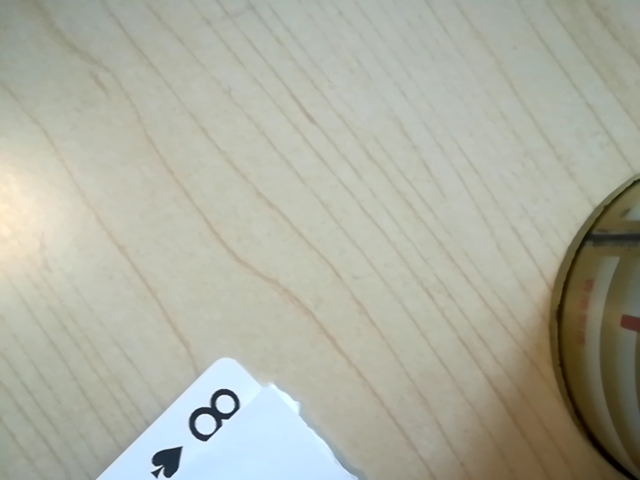ht 8: (143, 379, 251, 469)
